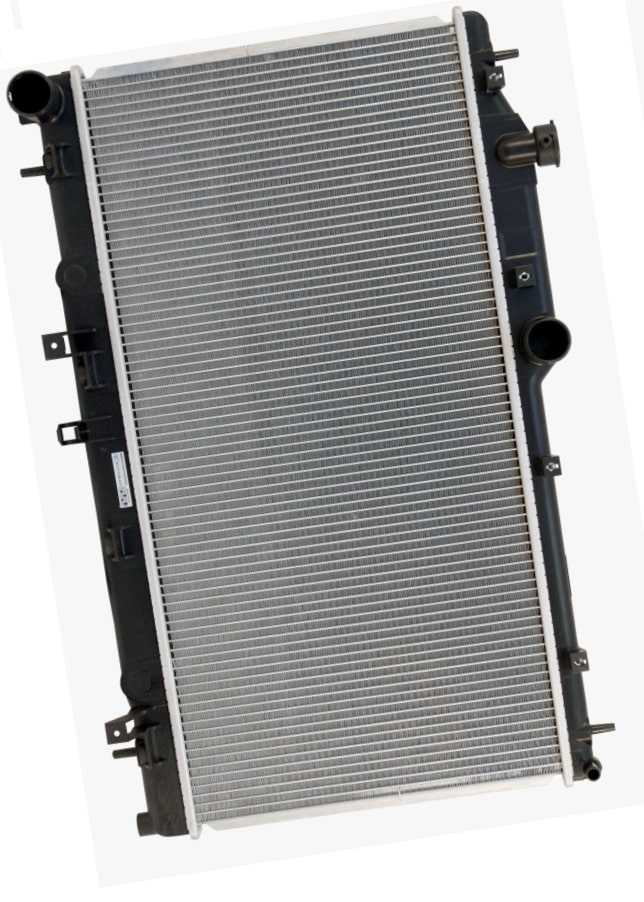c1: (482, 45, 521, 94)
c10: (61, 262, 92, 292)
c11: (39, 328, 113, 392)
c12: (54, 415, 121, 450)
c13: (102, 524, 139, 565)
c14: (101, 704, 173, 771)
c2: (492, 118, 569, 174)
c3: (512, 260, 540, 291)
c4: (522, 310, 575, 369)
c5: (540, 453, 564, 479)
c6: (566, 645, 592, 676)
c7: (572, 719, 617, 783)
c8: (4, 69, 68, 127)
c9: (18, 142, 80, 185)
